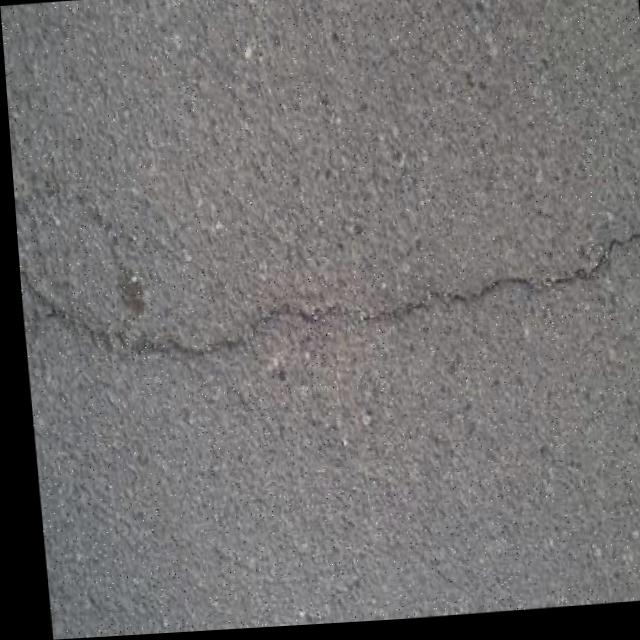Crack: (14, 207, 640, 403)
